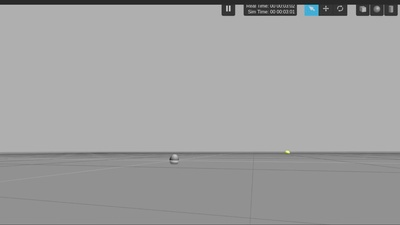mira_robot: (169, 154, 179, 164)
